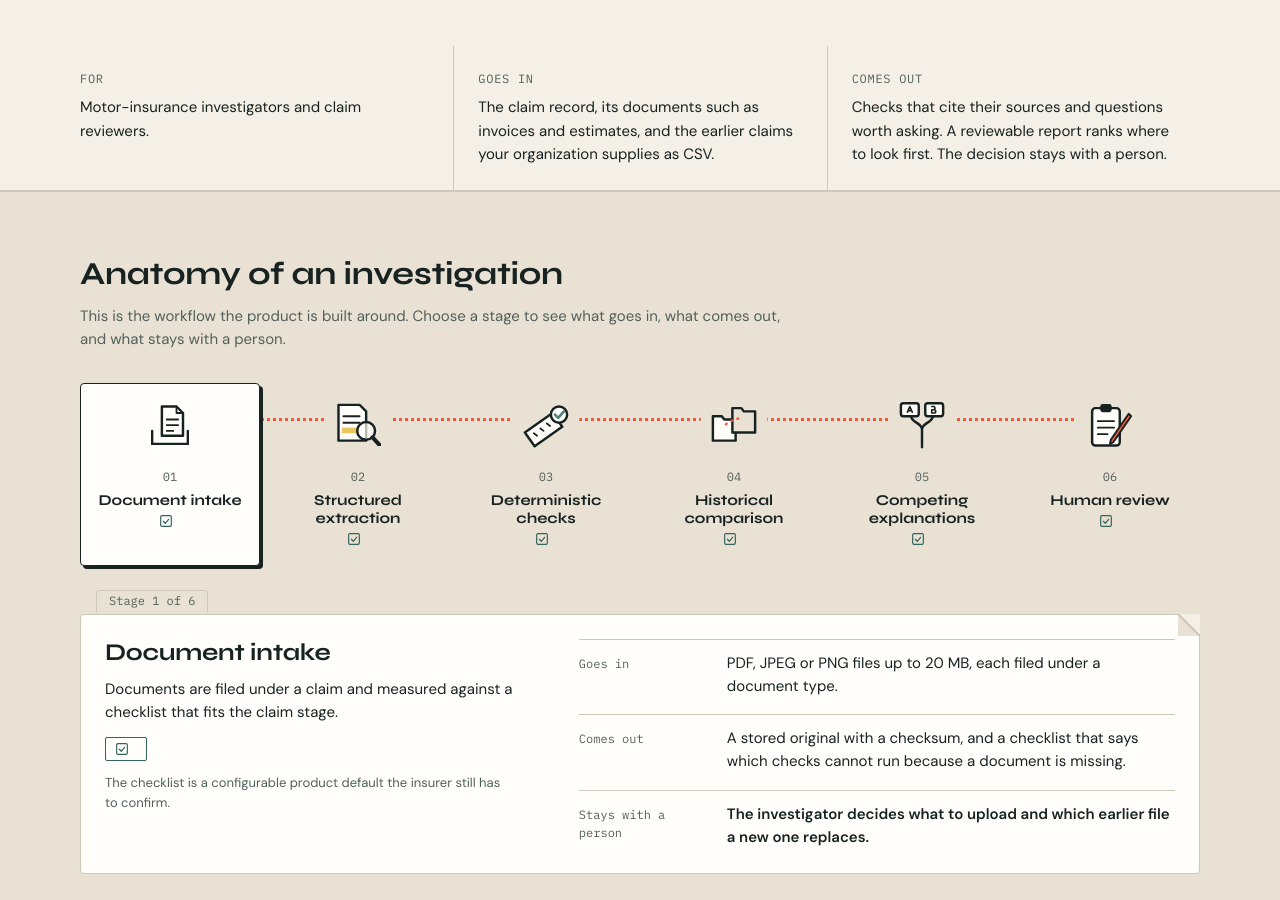
Anatomy of an investigation › states for every stage what stays with a person
The width and height of the screenshot is (1280, 900).
(page scrolled)
Click the tab "01 Document intake" at [170, 474], box [80, 383, 260, 566]
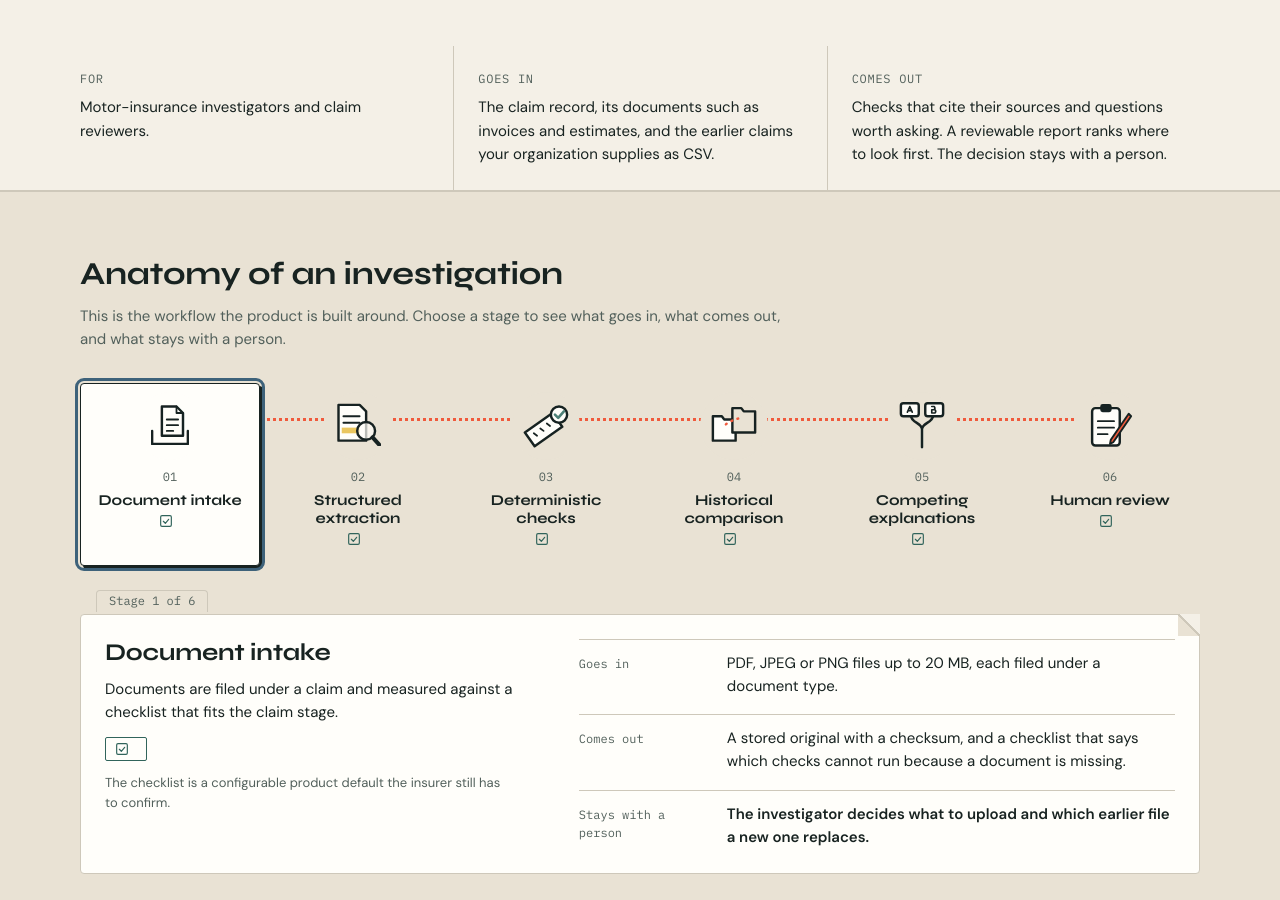
Check: the text "Stays with a person" is shown, box [579, 807, 665, 840]
Check: the text "The investigator decides what to upload and which earlier file a new one replaces." is shown, box [727, 804, 1170, 847]
Click the tab "02 Structured extraction" at [358, 474], box [268, 383, 448, 566]
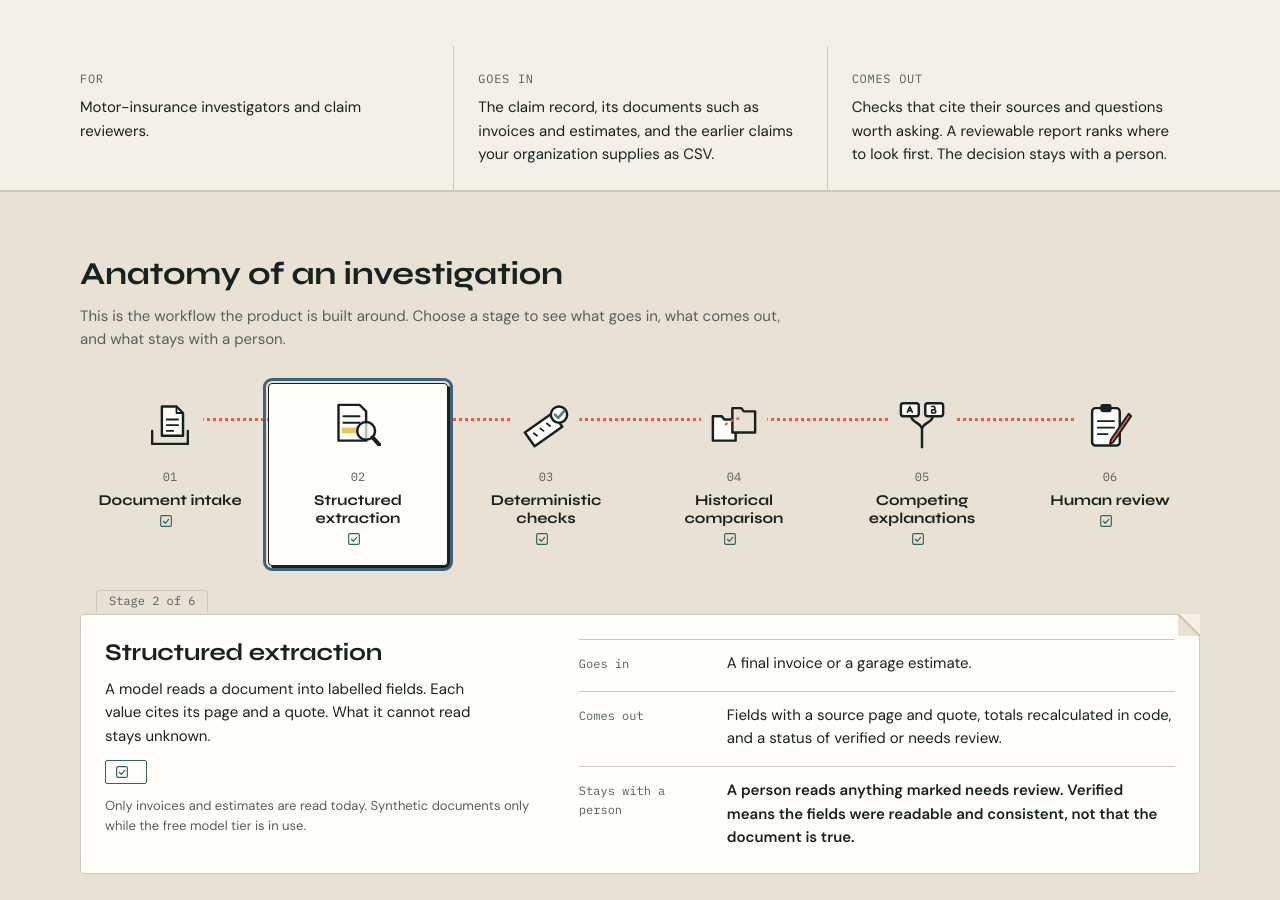
Check: the text "Stays with a person" is shown, box [579, 783, 665, 817]
Check: the text "A person reads anything marked needs review. Verified means the fields were readable and consistent, not that the docume" is shown, box [727, 780, 1157, 847]
Click the tab "03 Deterministic checks" at [546, 474], box [456, 383, 636, 566]
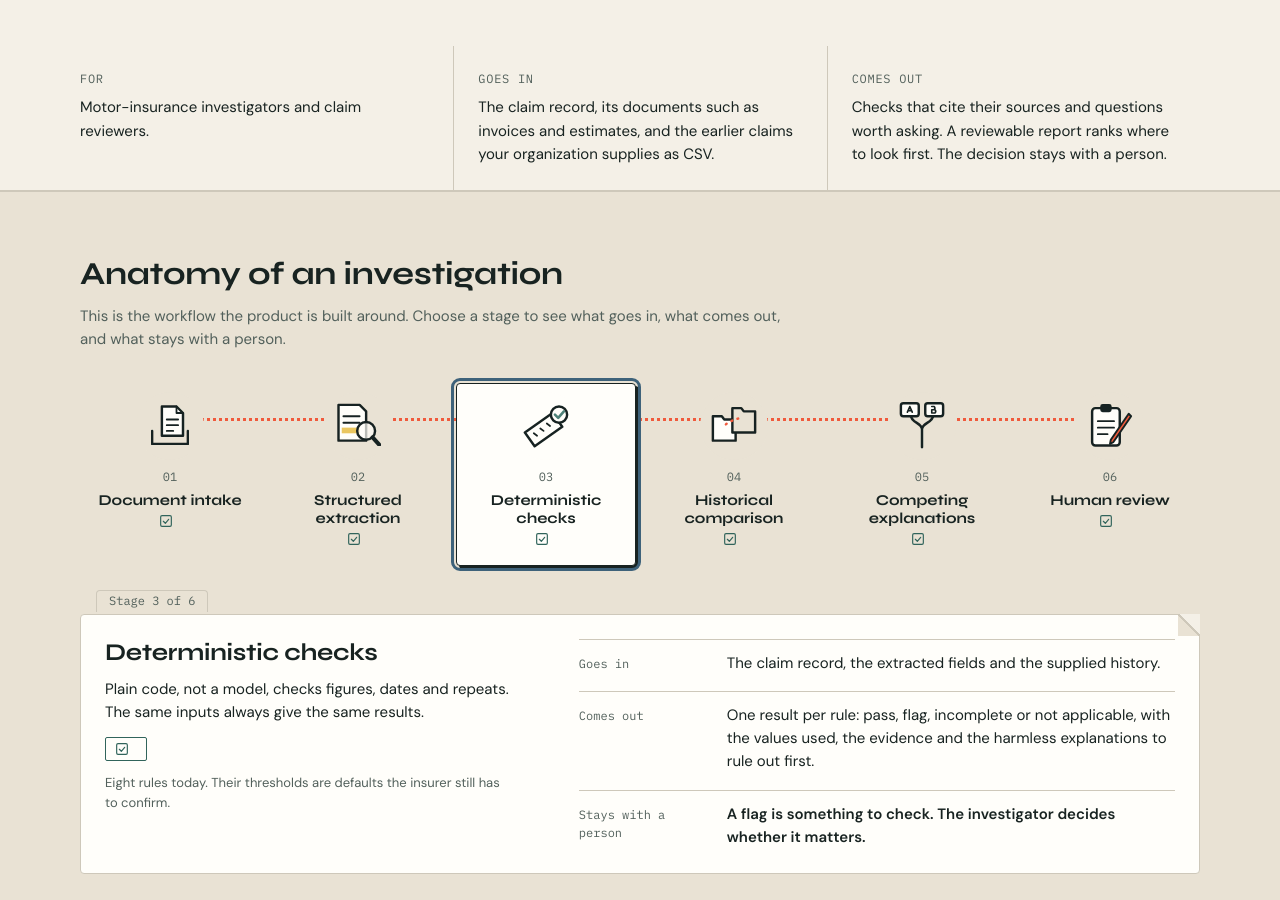
Check: the text "Stays with a person" is shown, box [579, 807, 665, 840]
Check: the text "A flag is something to check. The investigator decides whether it matters." is shown, box [727, 802, 1175, 849]
Click the tab "04 Historical comparison" at [734, 474], box [644, 383, 824, 566]
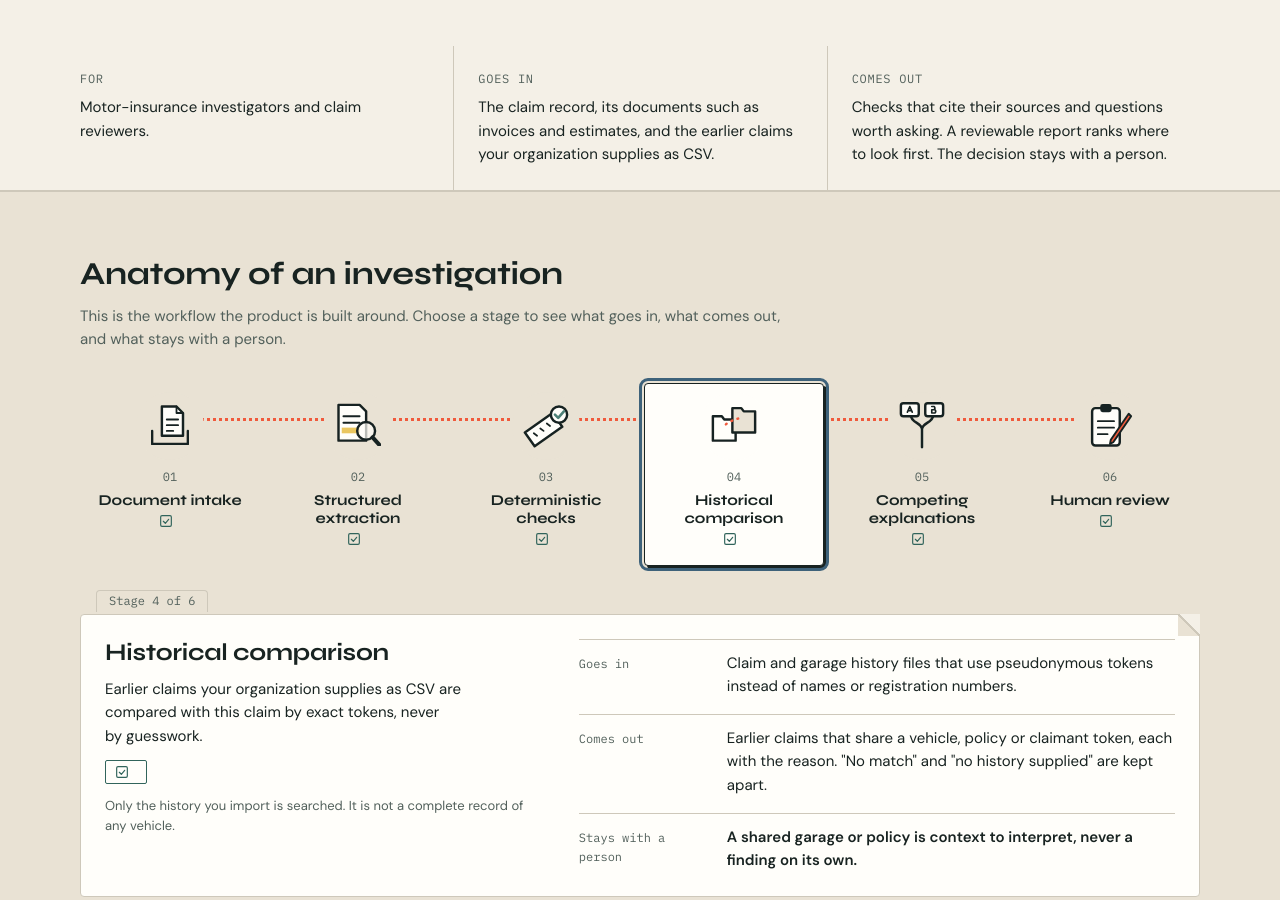
Check: the text "Stays with a person" is shown, box [579, 830, 665, 864]
Check: the text "A shared garage or policy is context to interpret, never a finding on its own." is shown, box [727, 826, 1175, 872]
Click the tab "05 Competing explanations" at [922, 474], box [832, 383, 1012, 566]
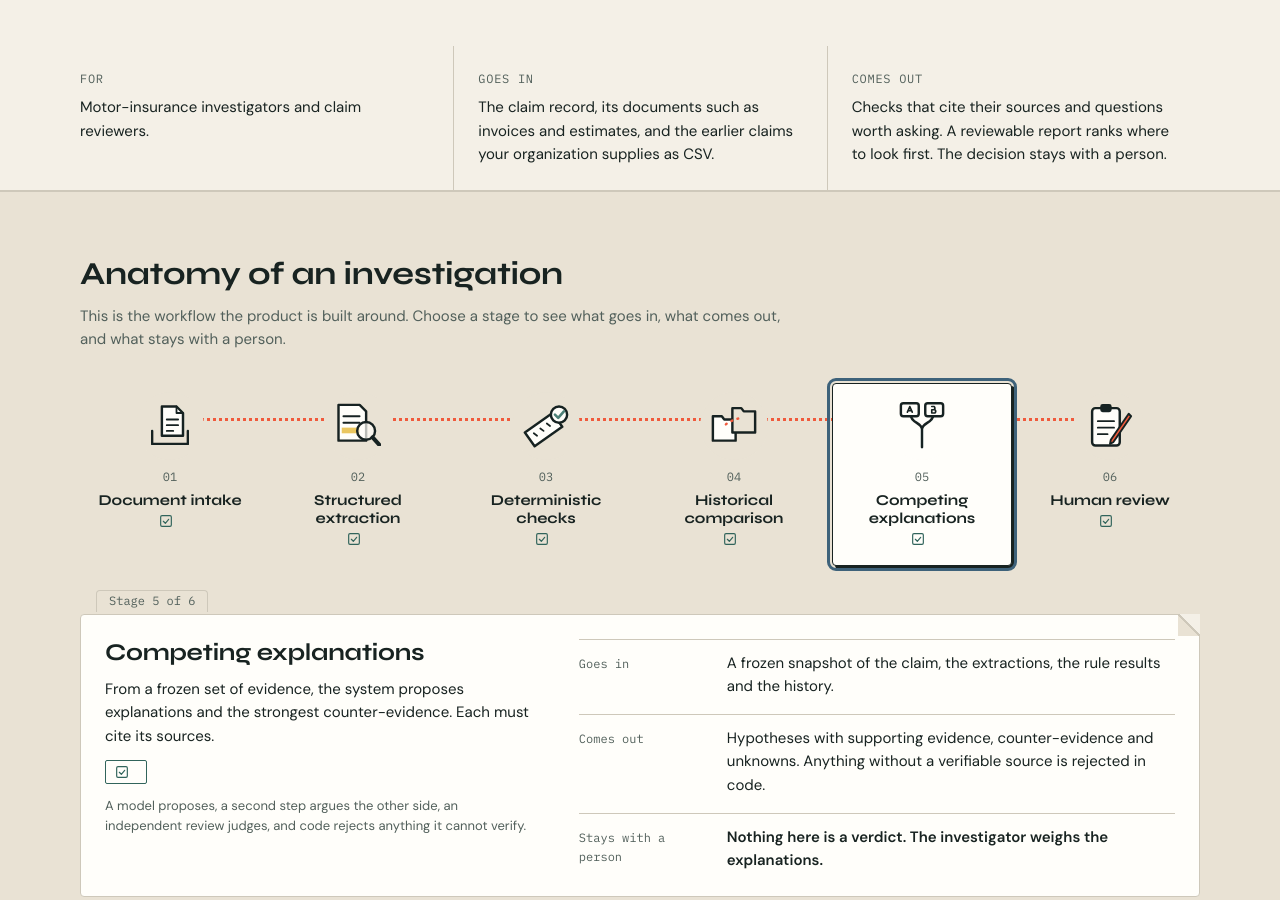
Check: the text "Stays with a person" is shown, box [579, 830, 665, 864]
Check: the text "Nothing here is a verdict. The investigator weighs the explanations." is shown, box [727, 826, 1175, 872]
Click the tab "06 Human review" at [1110, 474], box [1020, 383, 1200, 566]
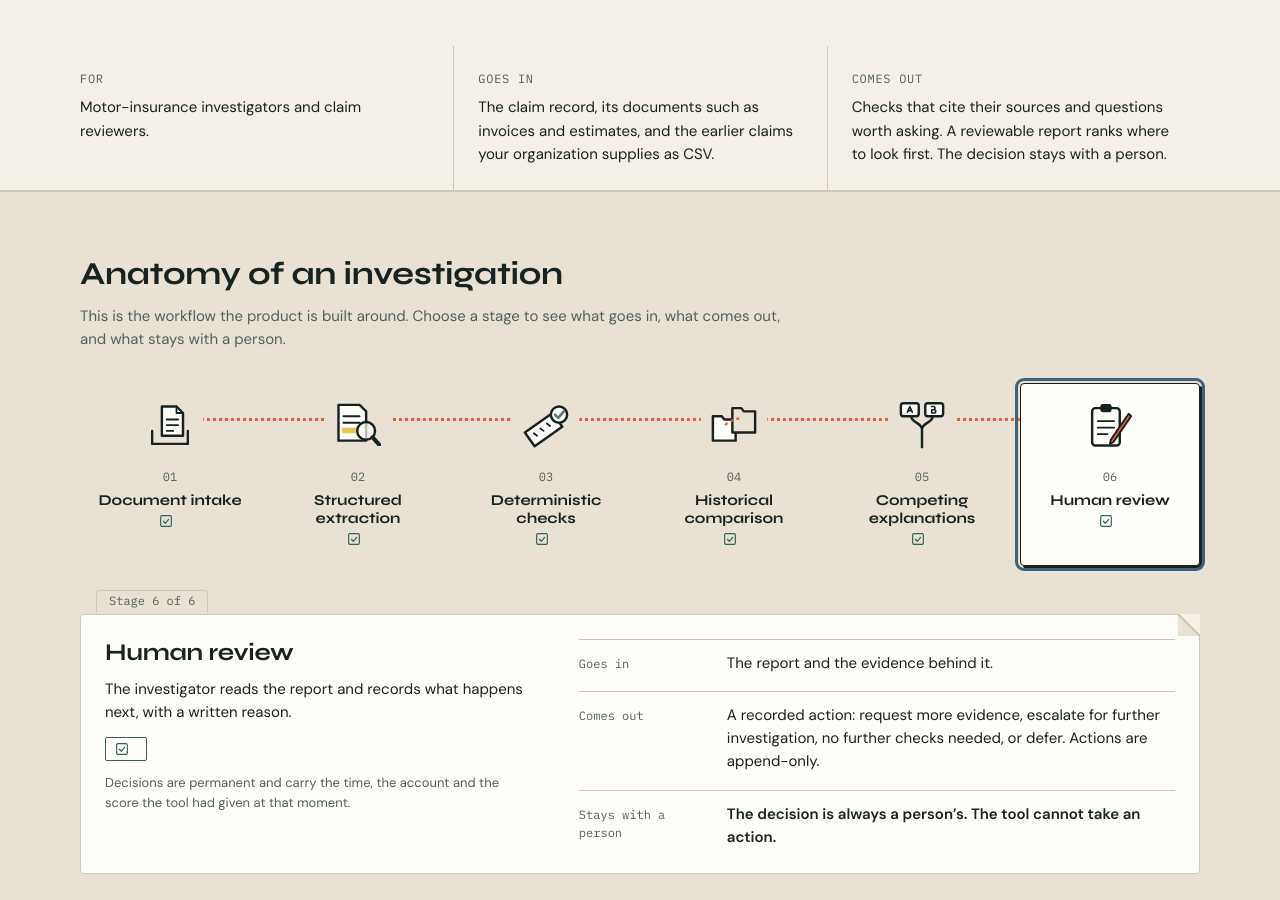
Check: the text "Stays with a person" is shown, box [579, 807, 665, 840]
Check: the text "The decision is always a person’s. The tool cannot take an action." is shown, box [727, 802, 1175, 849]
